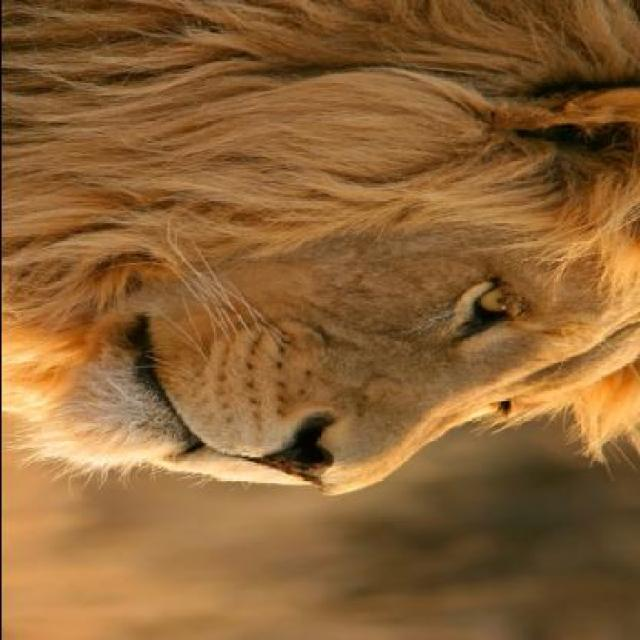Lion: (3, 0, 638, 512)
